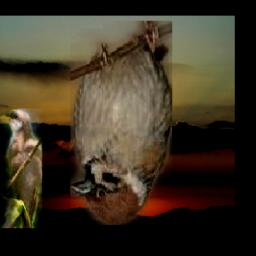Cuckoo: (0, 109, 42, 229)
Sparrow: (70, 22, 172, 226)
